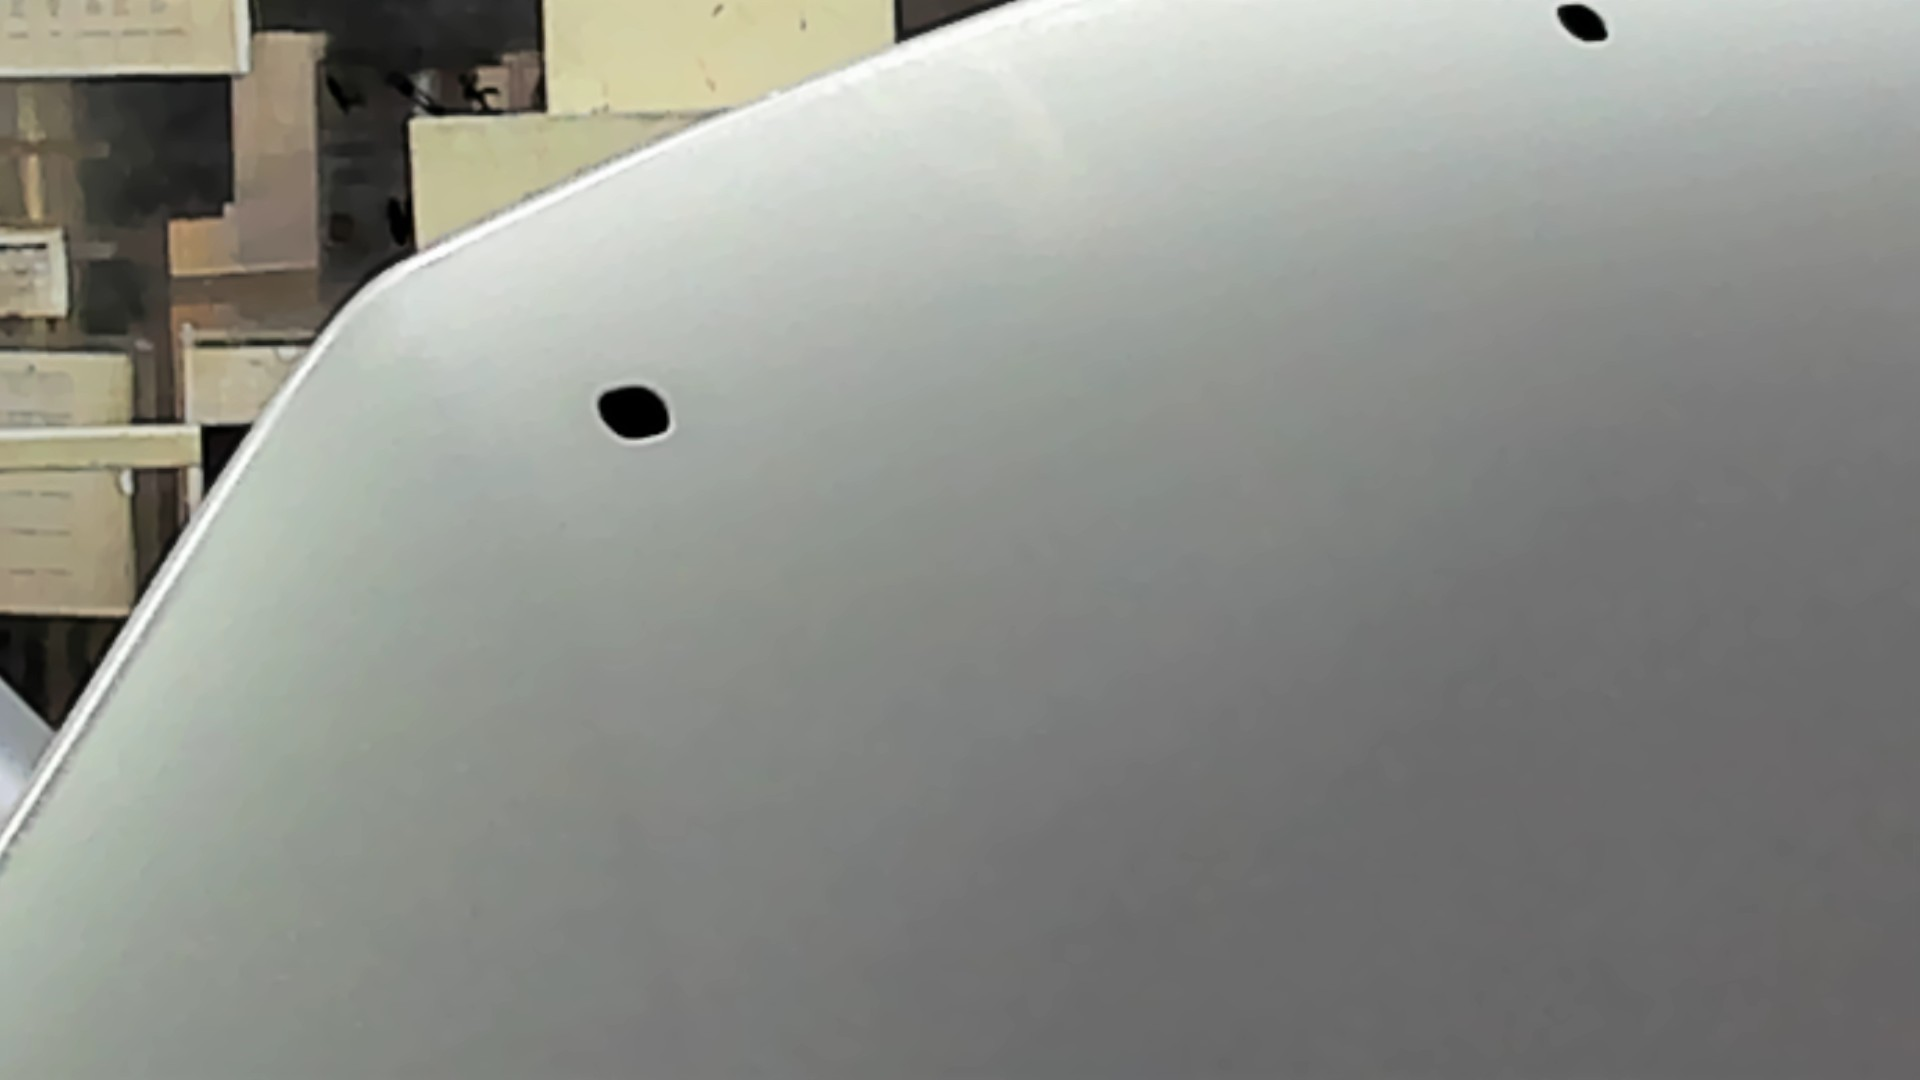amorfo: (593, 381, 683, 451), (1551, 4, 1615, 49)
